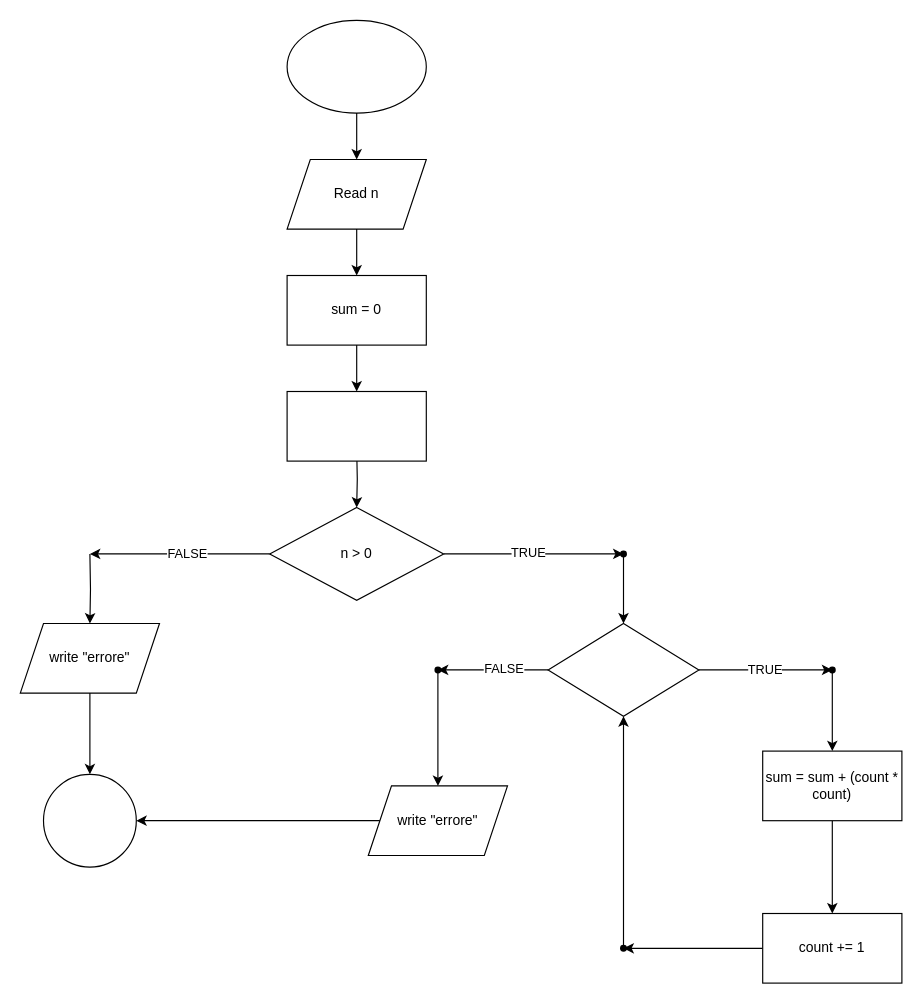
Image size: 922x1003. Some labels were removed from this diagram. Each missing label, with the centre of its shape:
"count <= n" belongs at pixel 623 669.
"count = 1" belongs at pixel 356 425.
"END" belongs at pixel 89 820.
"START" belongs at pixel 356 66.
